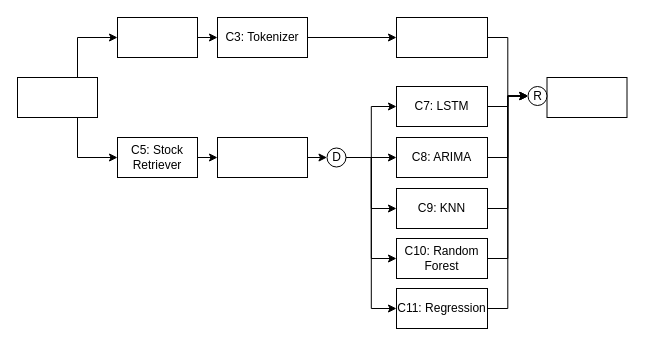
The diagram is 645 pixels wide and 346 high, and some of its shapes have lost their labels. Here are the shapes that lost their labels. From the top down, the box of each, then its label:
(116, 16, 198, 58): C2: Twitter Collection
(396, 16, 488, 58): C4: Sentiment Analyzer
(16, 76, 98, 118): C1: Entry
(546, 76, 627, 118): C12: Exit
(216, 136, 308, 178): C6: Redis
